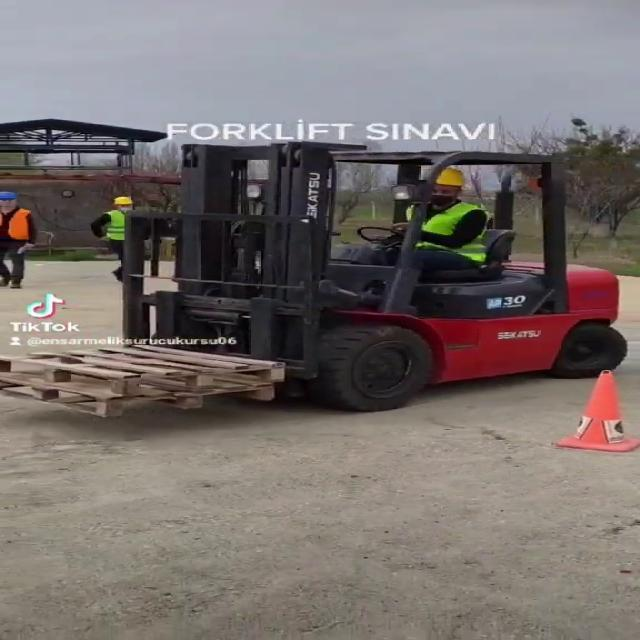forklift: (105, 140, 625, 406)
pallets: (0, 332, 289, 439)
person: (358, 157, 531, 284), (87, 193, 159, 290), (0, 186, 51, 297)
